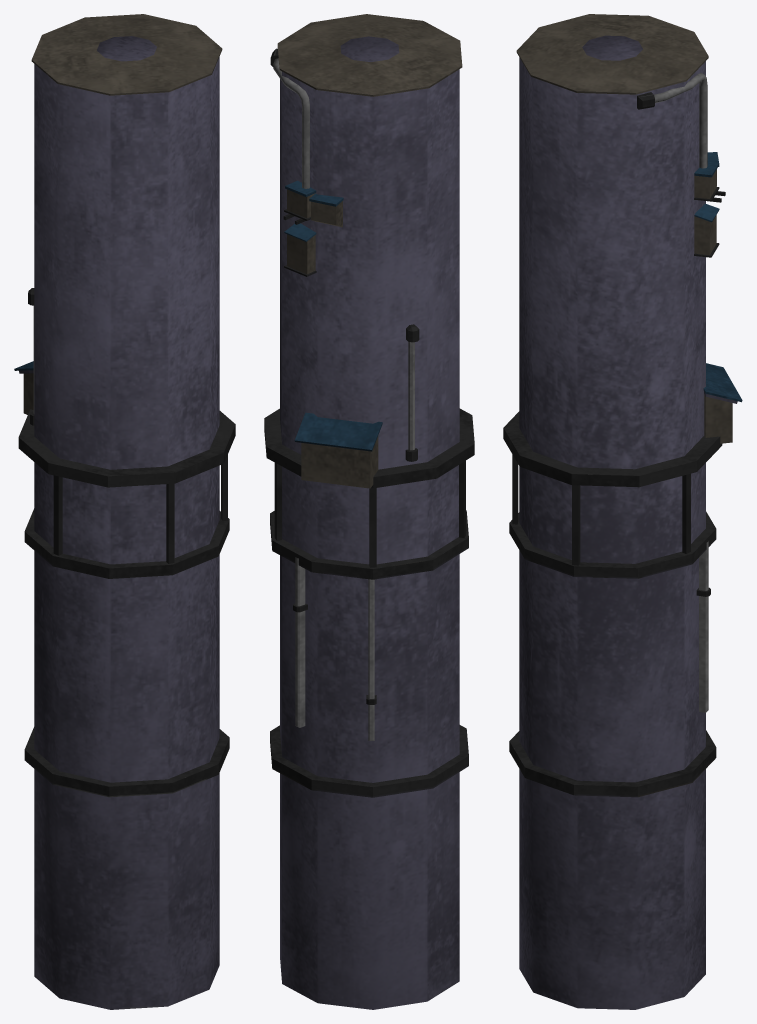
Rendered from ETC0710023.fbx.
The picture shows the model from 3 angles, left to right: view 1: azimuth 30°, elevation 25°; view 2: azimuth 150°, elevation 25°; view 3: azimuth 270°, elevation 25°; orthographic projection.
Parts seen in each view (by area): view 1: smETC0710023; view 2: smETC0710023; view 3: smETC0710023.
Boxes of the visible parts, x1,y1,x2,y2 form: smETC0710023: (14, 14, 235, 1009); smETC0710023: (264, 14, 474, 1009); smETC0710023: (503, 14, 742, 1009).
Size of the model in its own units: 1560 by 7461 by 1751.
Materials: 1 (1 with a texture image).
